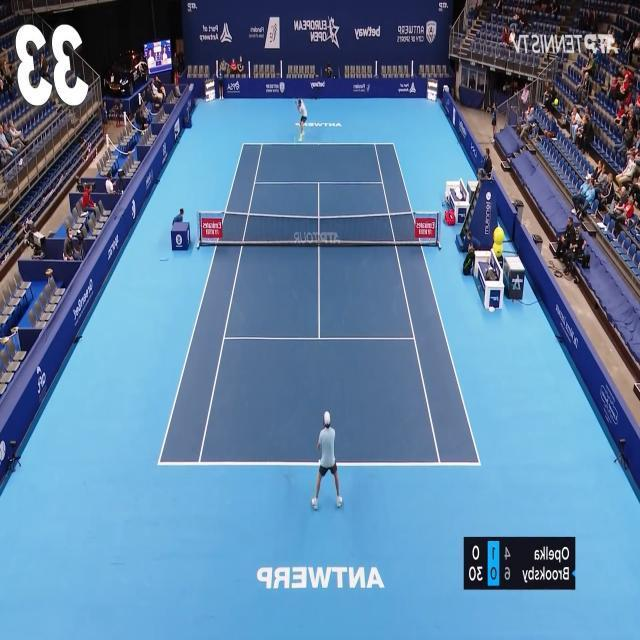court: (156, 143, 482, 466)
net: (196, 212, 441, 246)
player: (311, 409, 344, 512)
